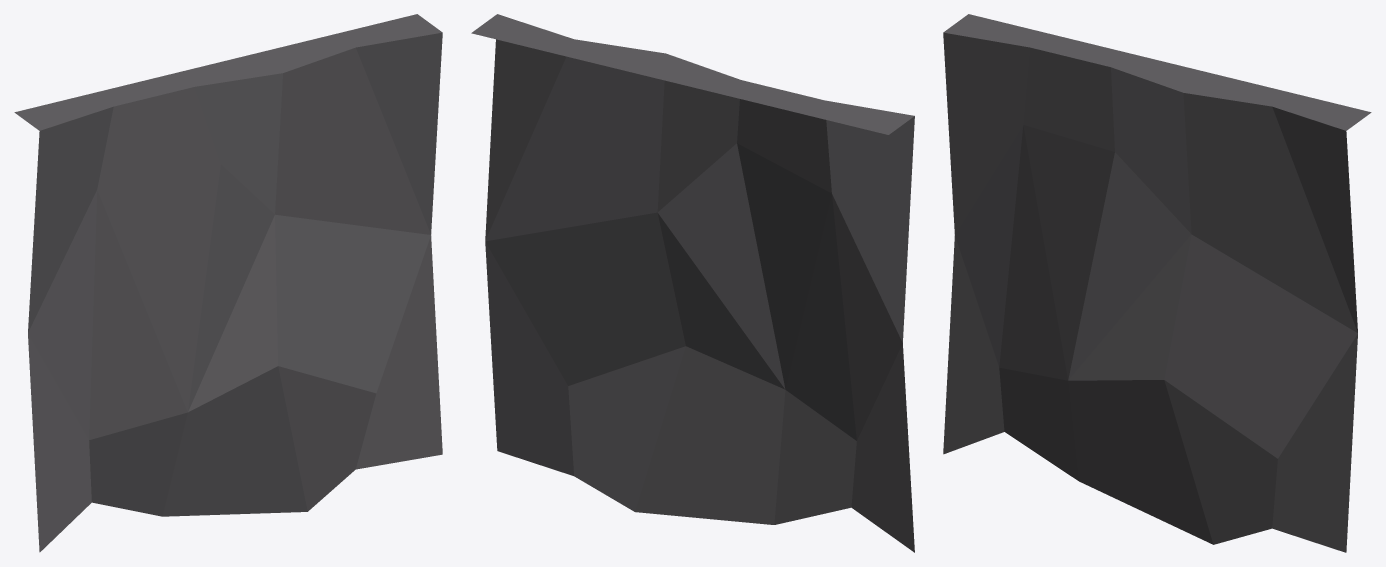
Rendered from mesh_nature_cliff_top_03.fbx.
3 renders of one model, left to right at view 1: azimuth 30°, elevation 25°; view 2: azimuth 150°, elevation 25°; view 3: azimuth 330°, elevation 25°, orthographic. The views are drawn at different scales.
Parts seen in each view (by area): view 1: mesh_nature_cliff_top_03; view 2: mesh_nature_cliff_top_03; view 3: mesh_nature_cliff_top_03.
Boxes of the visible parts, x1,y1,x2,y2 form: mesh_nature_cliff_top_03: (14, 14, 442, 552); mesh_nature_cliff_top_03: (471, 14, 914, 552); mesh_nature_cliff_top_03: (943, 14, 1371, 552).
Bounding box in the file's own units: 200 × 212 × 31.83.
